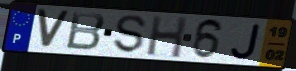6: (191, 17, 228, 61)
B: (64, 11, 108, 52)
H: (145, 14, 189, 60)
J: (230, 23, 263, 61)
S: (113, 14, 149, 55)
V: (35, 8, 72, 51)
